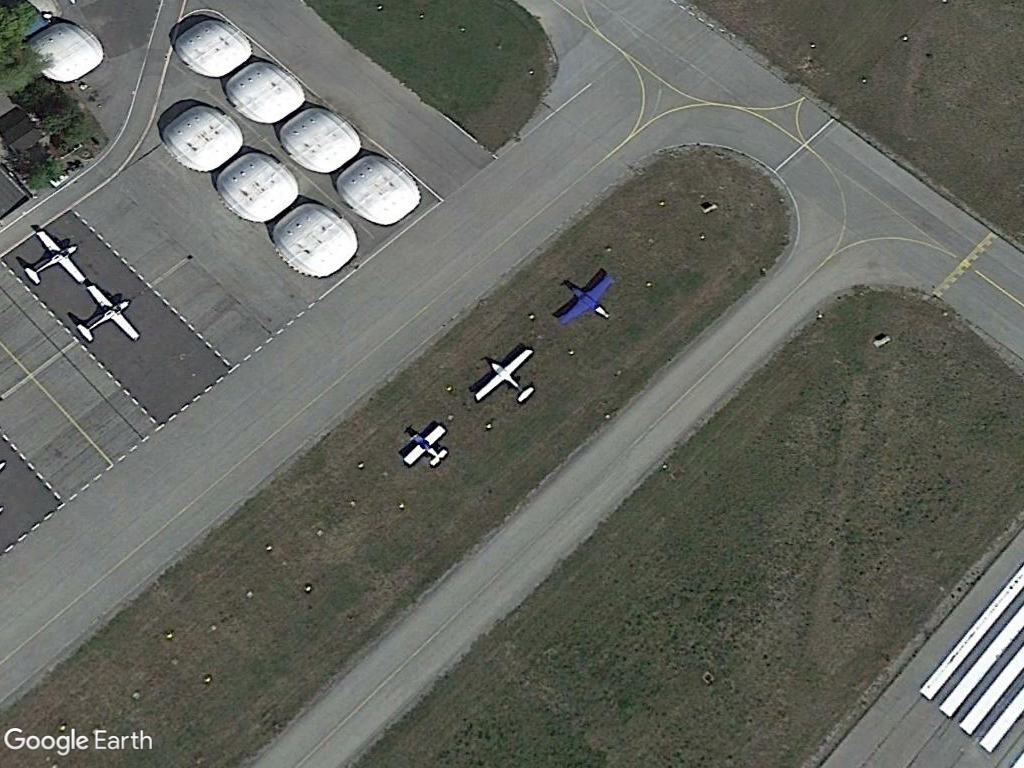trainer: (65, 281, 145, 349), (13, 226, 91, 286), (466, 344, 540, 406), (394, 417, 452, 472)
